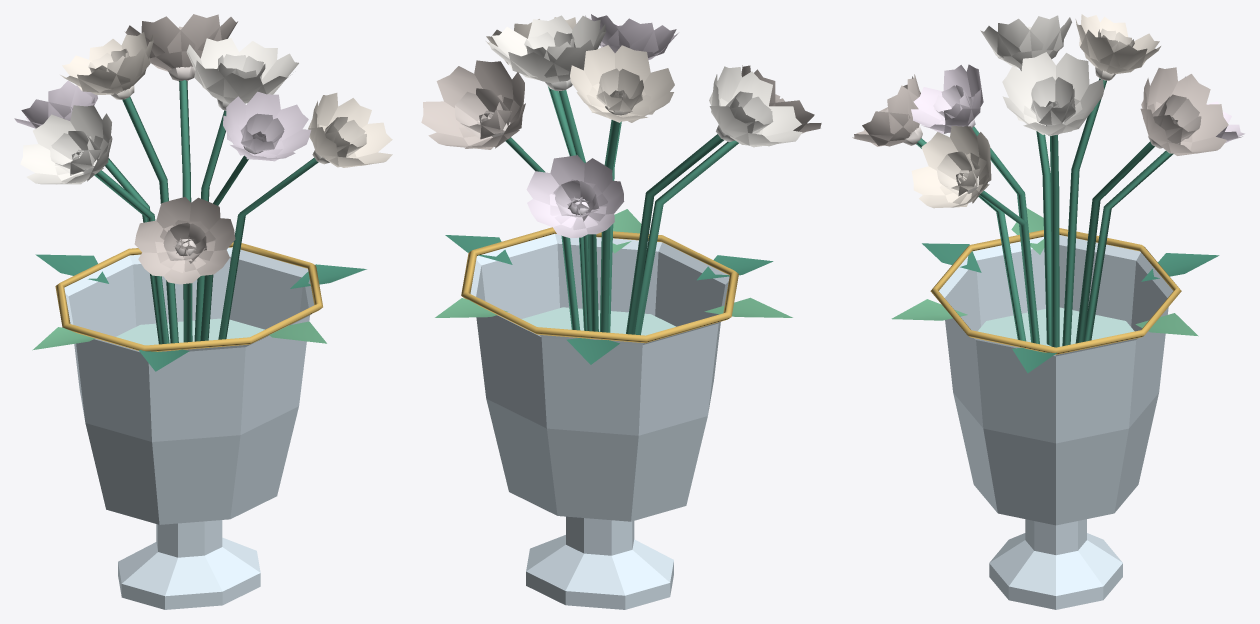
Rendered from vase_white_roses.glb.
The picture shows the model from 3 angles, left to right: view 1: azimuth 30°, elevation 25°; view 2: azimuth 150°, elevation 25°; view 3: azimuth 270°, elevation 25°; orthographic projection. The views are drawn at different scales.
Visible parts, largest first — view 1: vase_white_roses; view 2: vase_white_roses; view 3: vase_white_roses.
Boxes of the visible parts, x1,y1,x2,y2 form: vase_white_roses: (14,14,392,609); vase_white_roses: (421,14,821,609); vase_white_roses: (852,14,1244,609).
Size of what is drawn, in the model's own units: 0.4 by 0.6 by 0.4.
